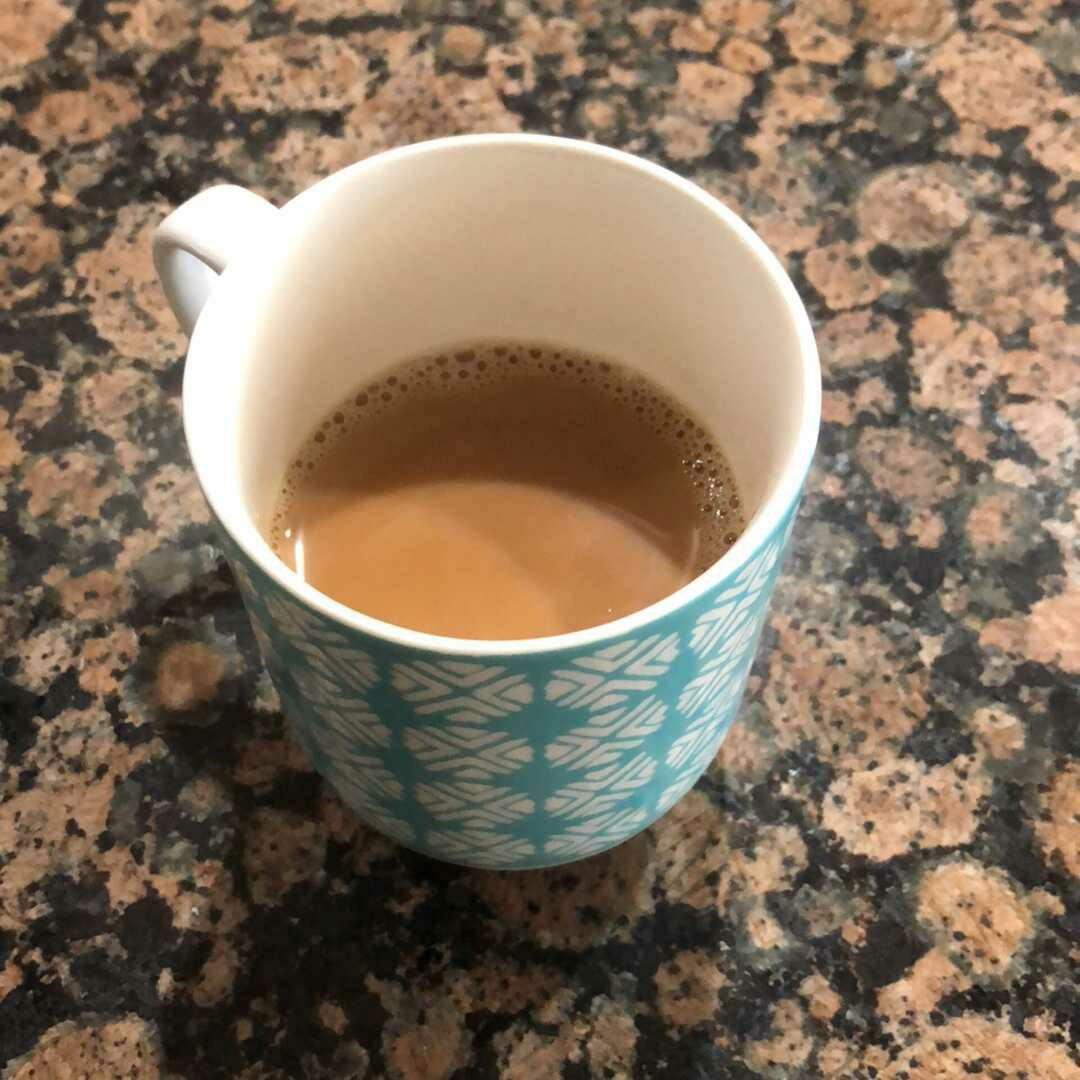Chai: (265, 338, 745, 634)
